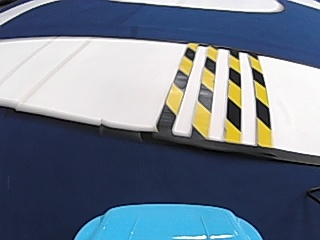bump: (152, 45, 273, 143)
